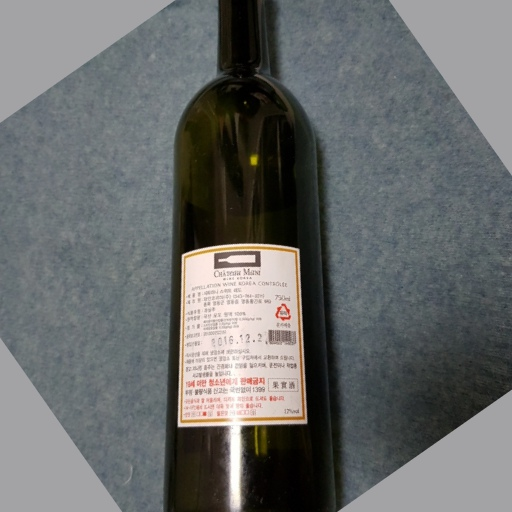Glass_2: (165, 2, 342, 512)
